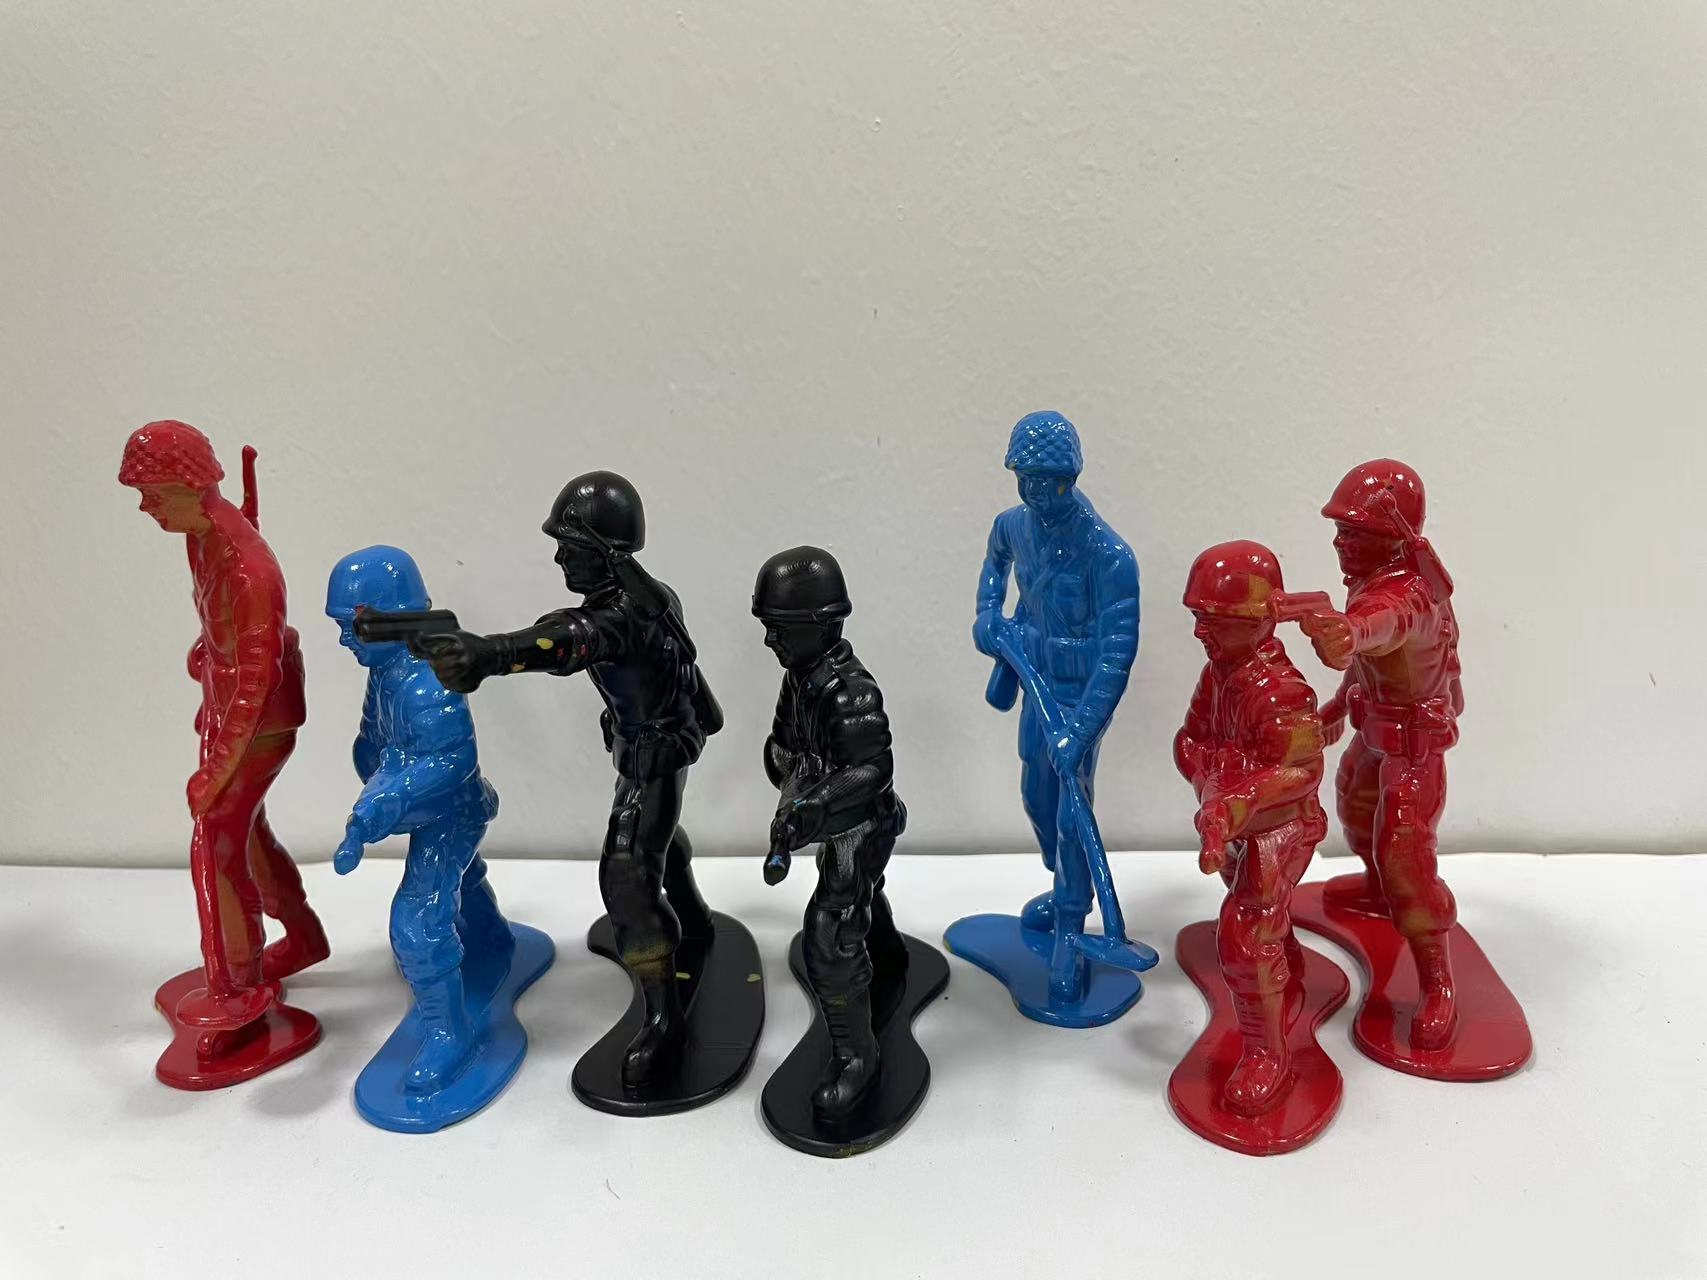black: (501, 440, 769, 1131), (730, 524, 958, 1158)
blue: (310, 524, 550, 1155), (956, 385, 1164, 1023)
red: (77, 389, 340, 1107), (1310, 421, 1556, 1101), (1159, 516, 1341, 1176)
